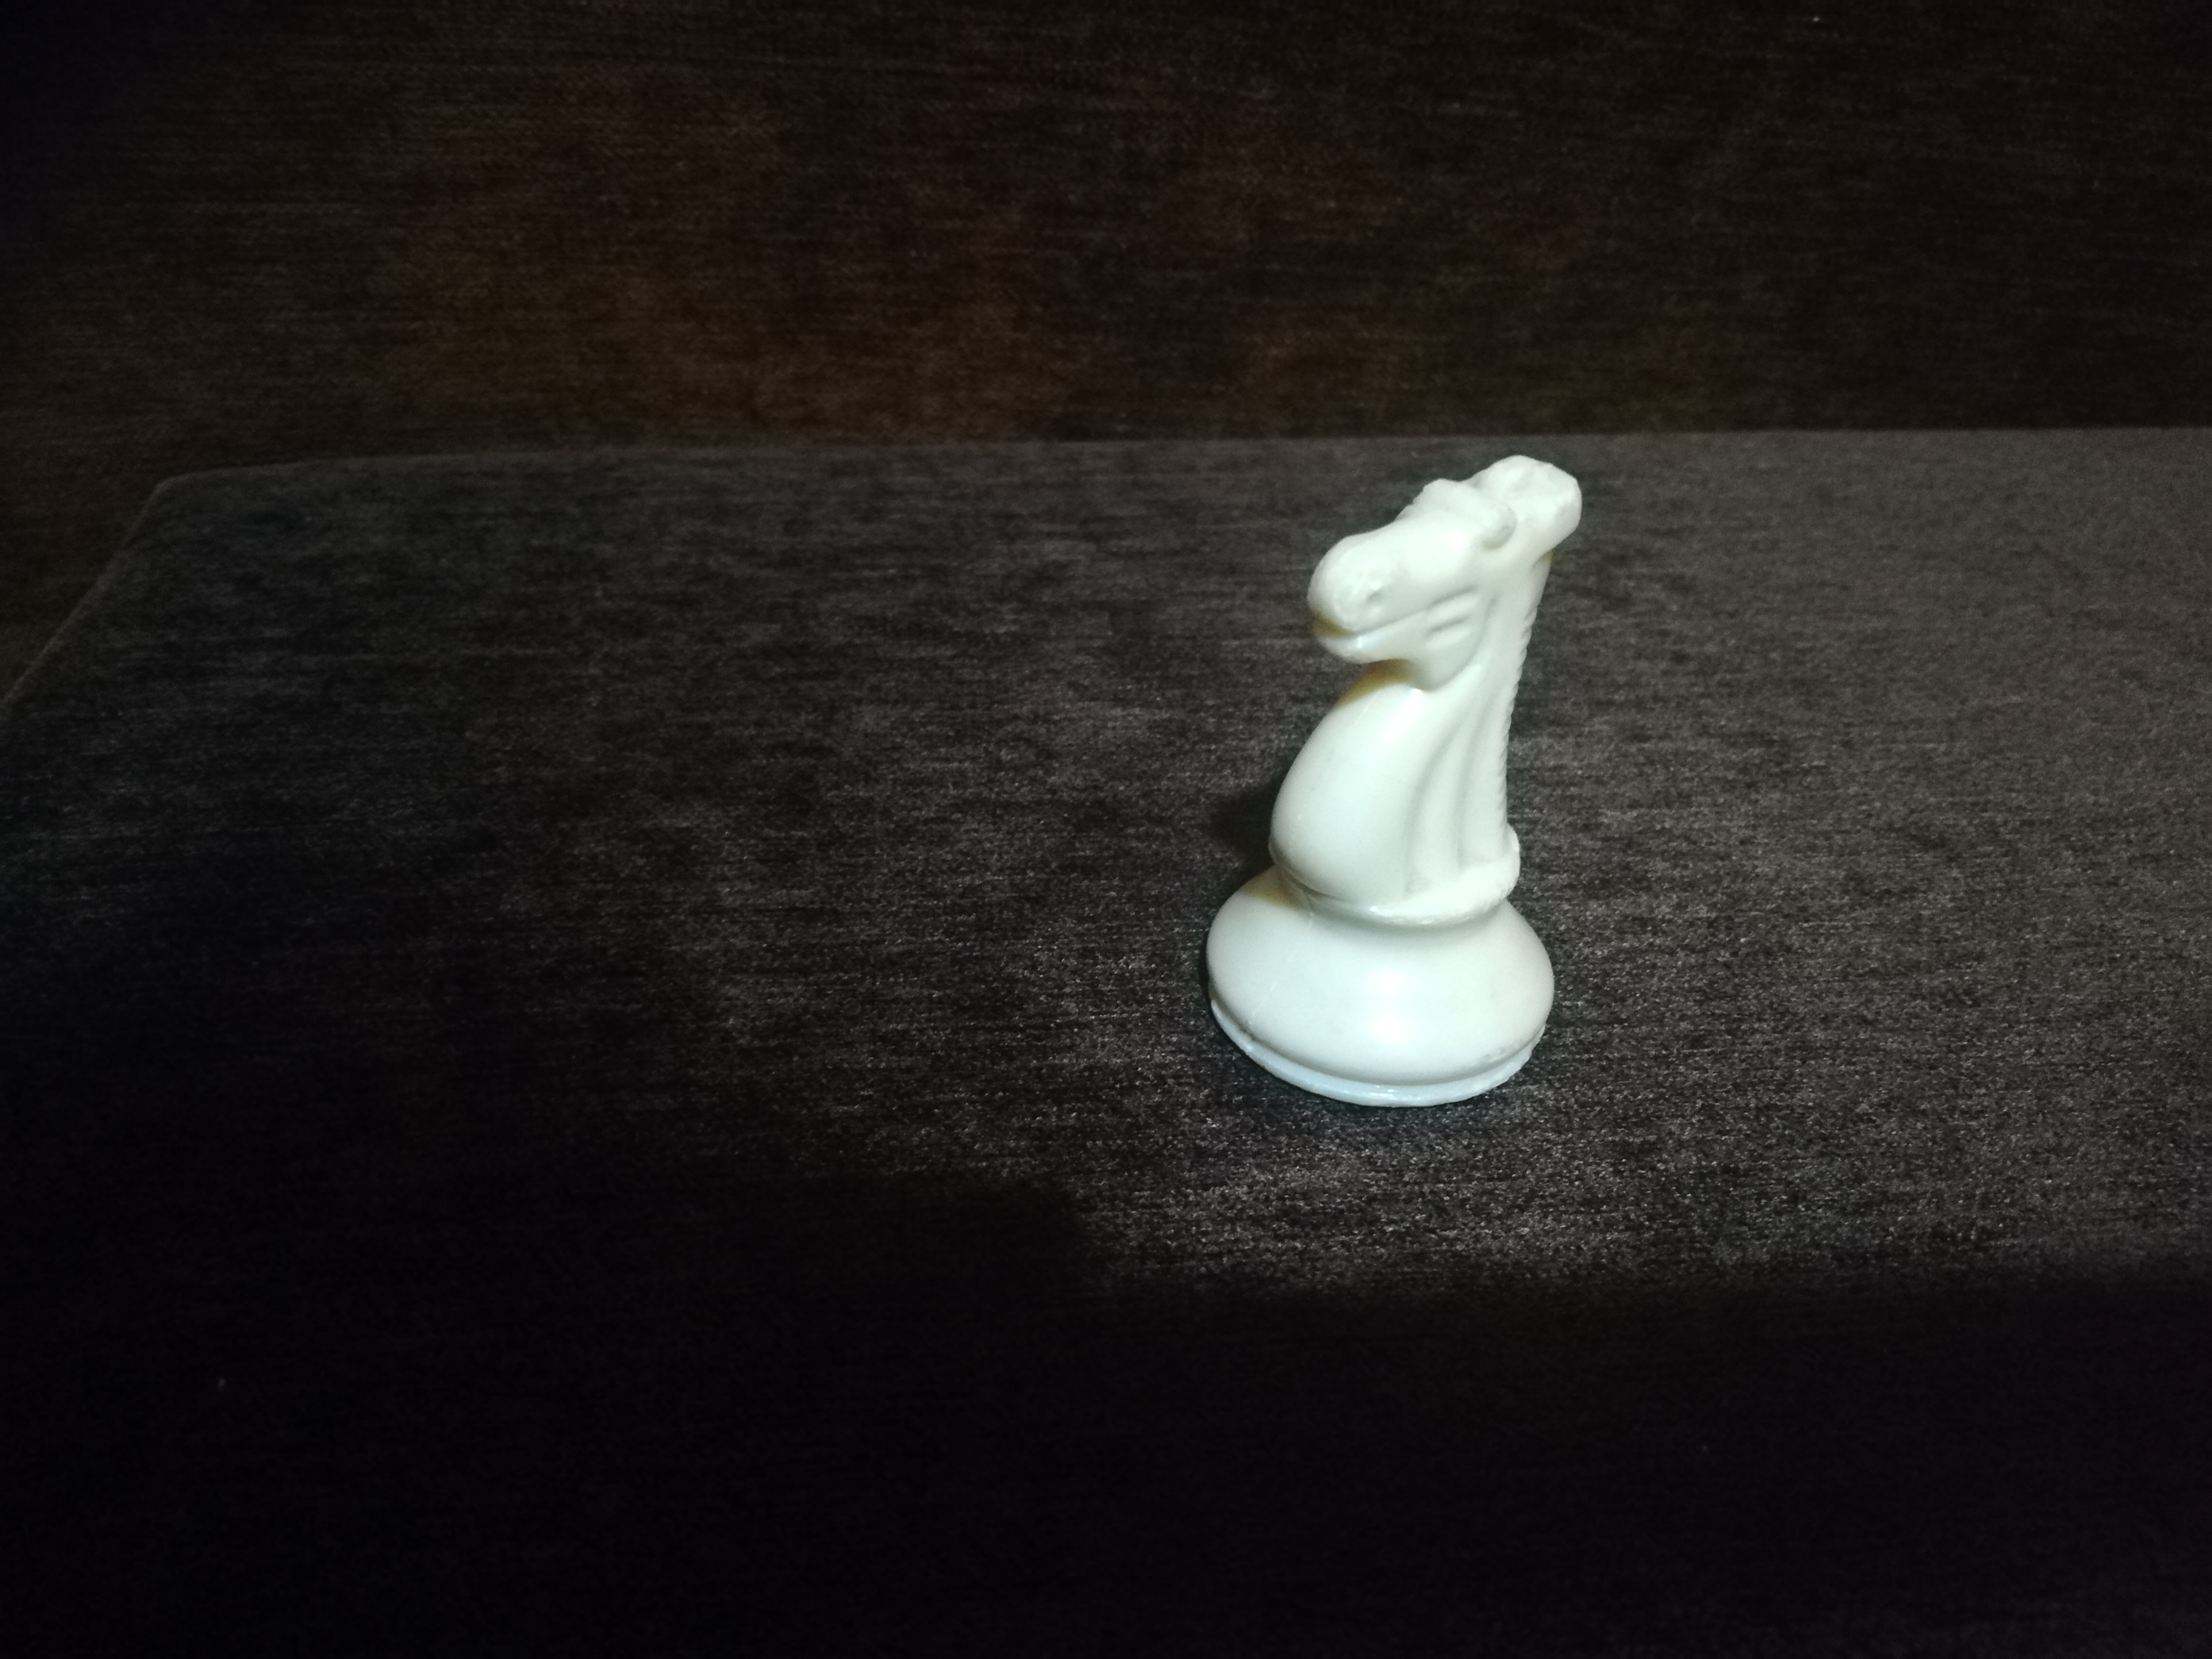Knight: (1204, 449, 1601, 1094)
